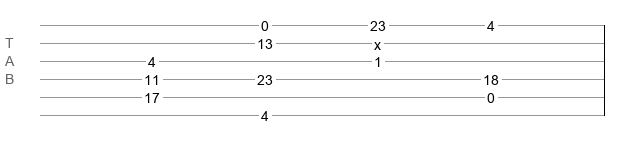0: (261, 18, 269, 28), (487, 90, 495, 100)
1: (374, 54, 382, 64)
11: (144, 72, 160, 82)
13: (257, 36, 273, 46)
17: (144, 90, 160, 100)
18: (483, 72, 499, 82)
23: (257, 72, 273, 82), (370, 18, 386, 28)
4: (148, 54, 156, 64), (261, 108, 269, 118), (487, 18, 495, 28)
x: (374, 37, 381, 45)
